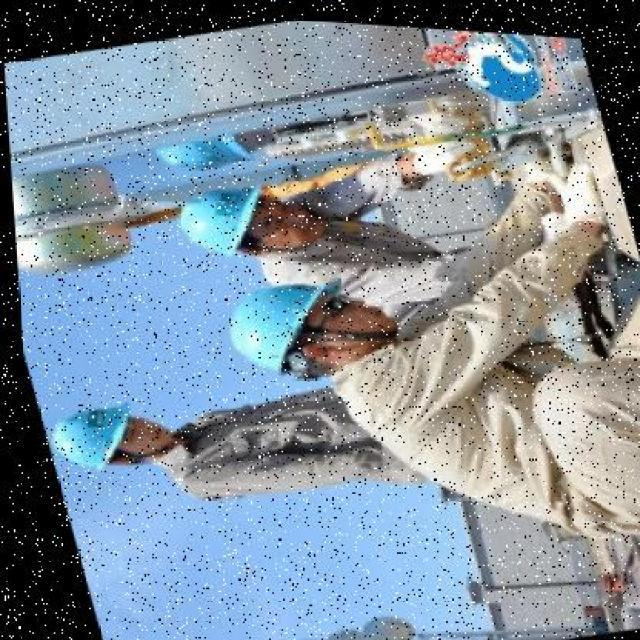helmet: (212, 257, 362, 385), (168, 163, 287, 266), (39, 388, 151, 480)
